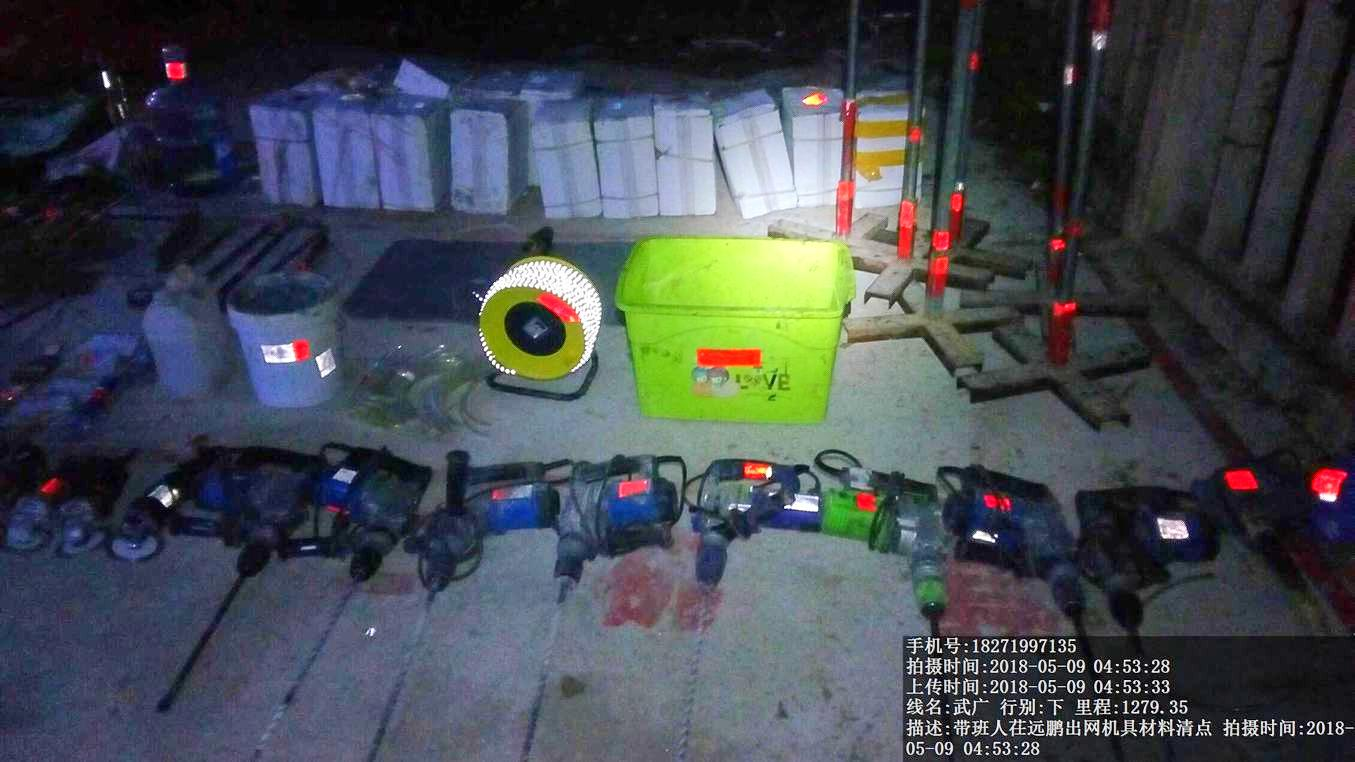DX: (482, 261, 602, 408)
DZ: (950, 451, 1096, 615), (823, 464, 949, 634), (545, 443, 677, 594), (413, 465, 549, 594), (679, 451, 809, 583), (321, 444, 408, 599)
T: (601, 223, 861, 429)
